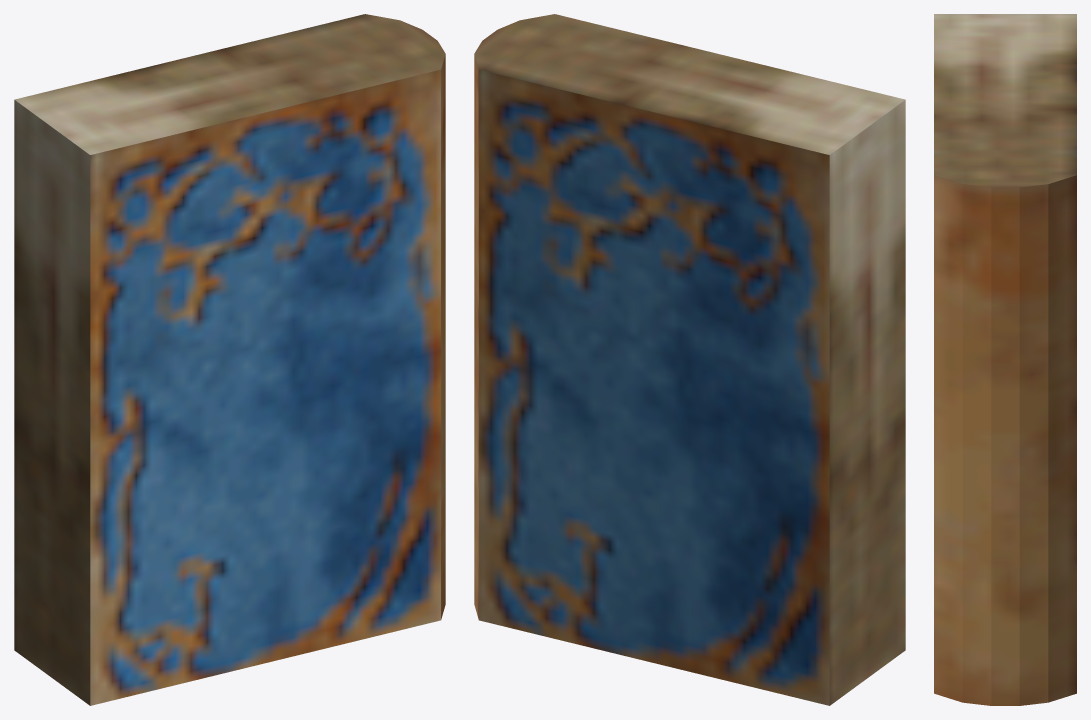
Rendered from ys.ico.obj.
The picture shows the model from 3 angles, left to right: view 1: azimuth 30°, elevation 25°; view 2: azimuth 150°, elevation 25°; view 3: azimuth 270°, elevation 25°; orthographic projection. The views are drawn at different scales.
Size of the model in its own units: 3.45 by 4.8 by 1.2.
1 material, 1 textured.
